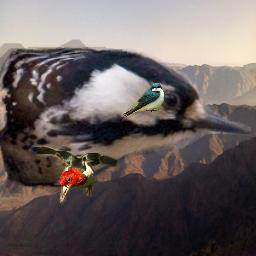Swallow: (121, 83, 165, 117)
Woodpecker: (0, 36, 251, 193), (26, 141, 120, 205)
